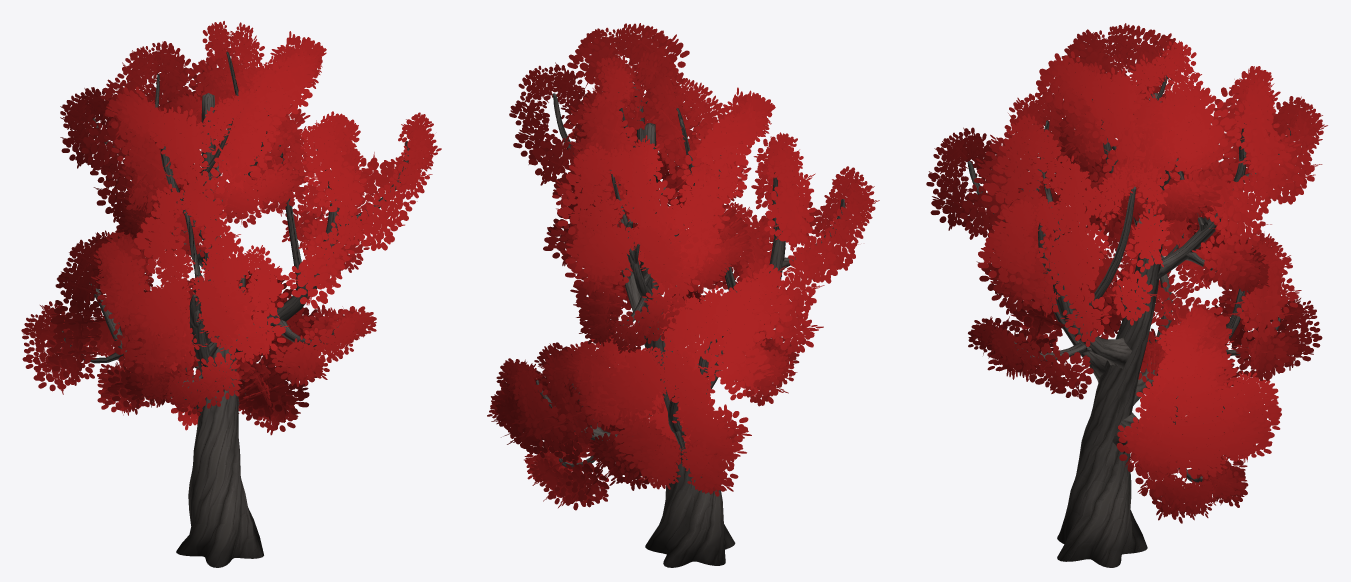
File: TwistedTree_3.gltf
3 views of the same model, side by side, from view 1: azimuth 30°, elevation 25°; view 2: azimuth 150°, elevation 25°; view 3: azimuth 270°, elevation 25° (orthographic). The views are drawn at different scales.
Parts seen in each view (by area): view 1: TwistedTree_3; view 2: TwistedTree_3; view 3: TwistedTree_3.
Boxes of the visible parts, left/top/right/bottom form: TwistedTree_3: left=21, top=21, right=441, bottom=567; TwistedTree_3: left=487, top=23, right=879, bottom=567; TwistedTree_3: left=926, top=23, right=1327, bottom=567.
Size of the model in its own units: 11.36 by 16.07 by 11.51.
2 materials, 2 textured.
